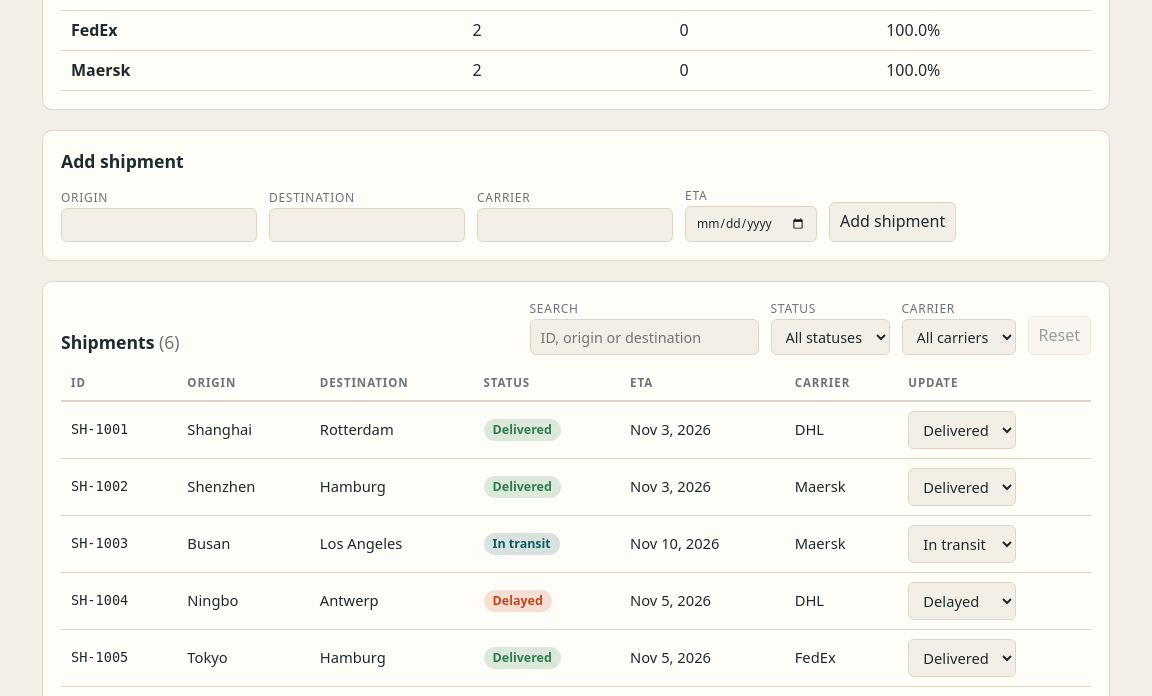
Test: App › shows only delivered rows when the status filter is set to delivered
(page scrolled)
Expected: the text "SH-1001" is shown, [61,401,177,458]
Select "Delivered" in the dropdown labelled "Status". click: (830, 337)
box: [770,319,890,355]
(page scrolled)
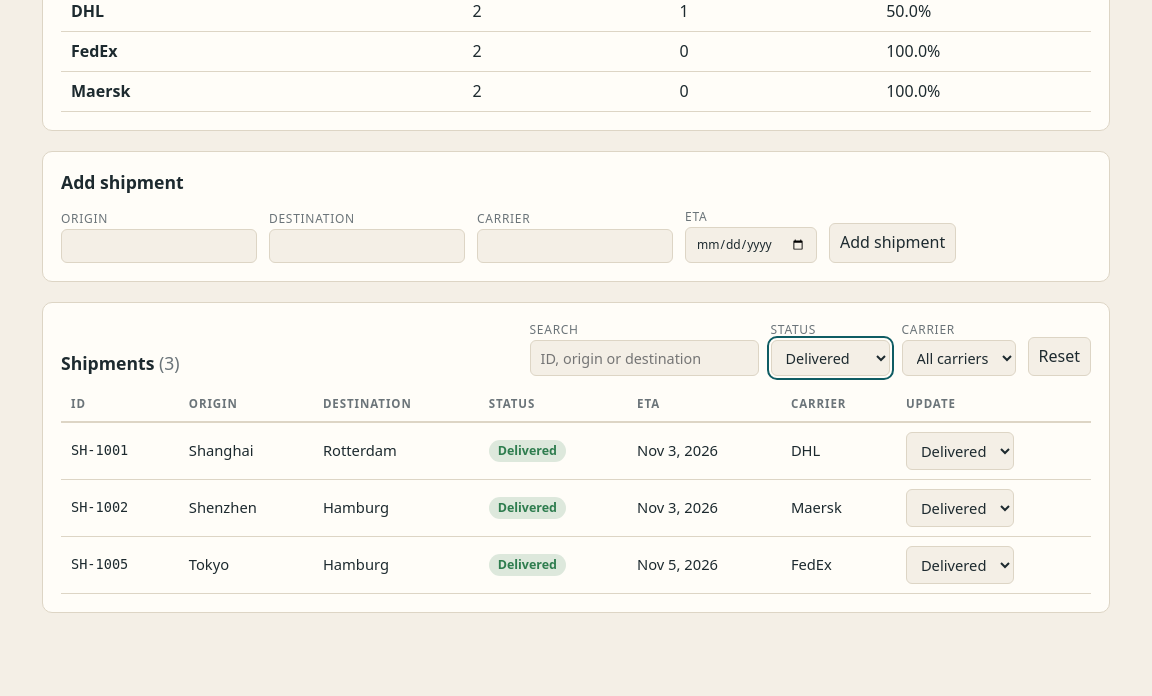
Expected: the heading "Shipments (3)" is shown, [61,350,180,376]
